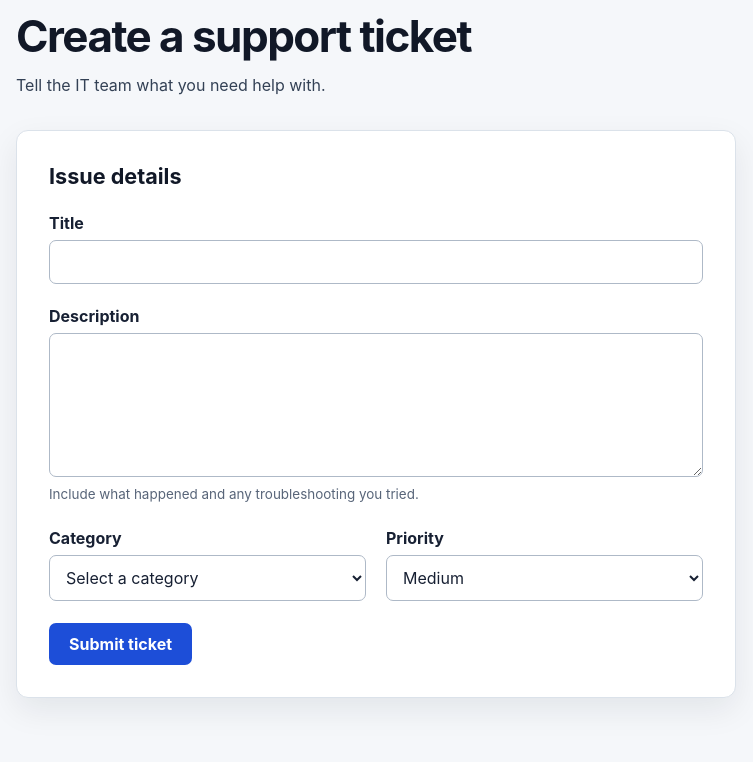
it: employee ticket creation › displays validation errors for an invalid submission
(page scrolled)
Click the button "Submit ticket": [120, 644] box [49,623,192,665]
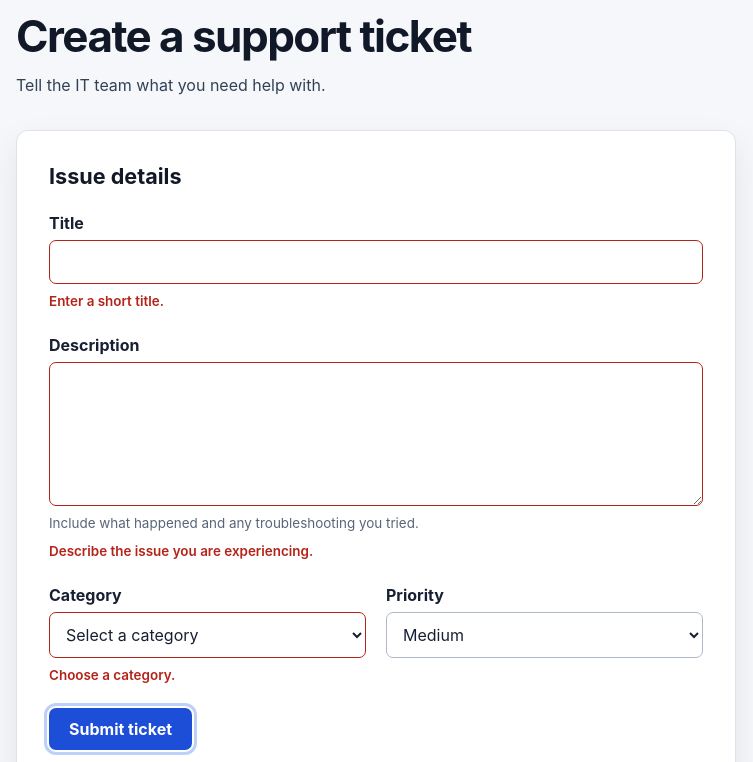
Expected: the text "Enter a short title." is shown, [49,294,164,310]
Expected: the text "Describe the issue you are experiencing." is shown, [49,544,313,560]
Expected: the text "Choose a category." is shown, [49,667,175,683]
